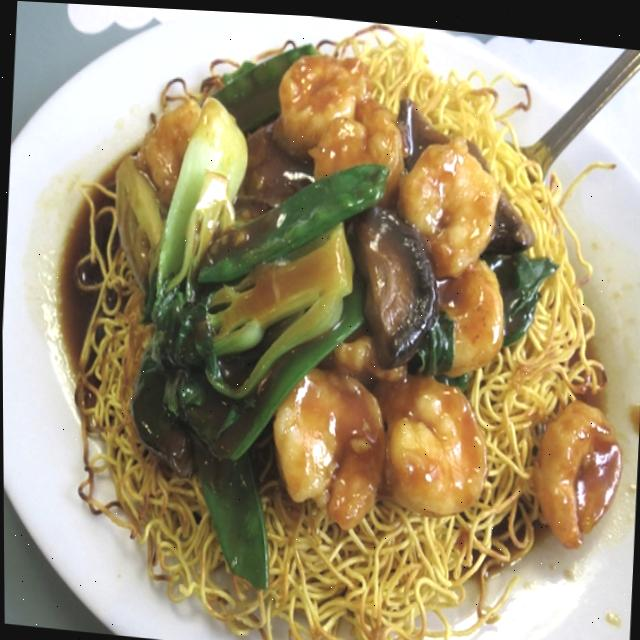面条主食: (30, 1, 640, 640)
